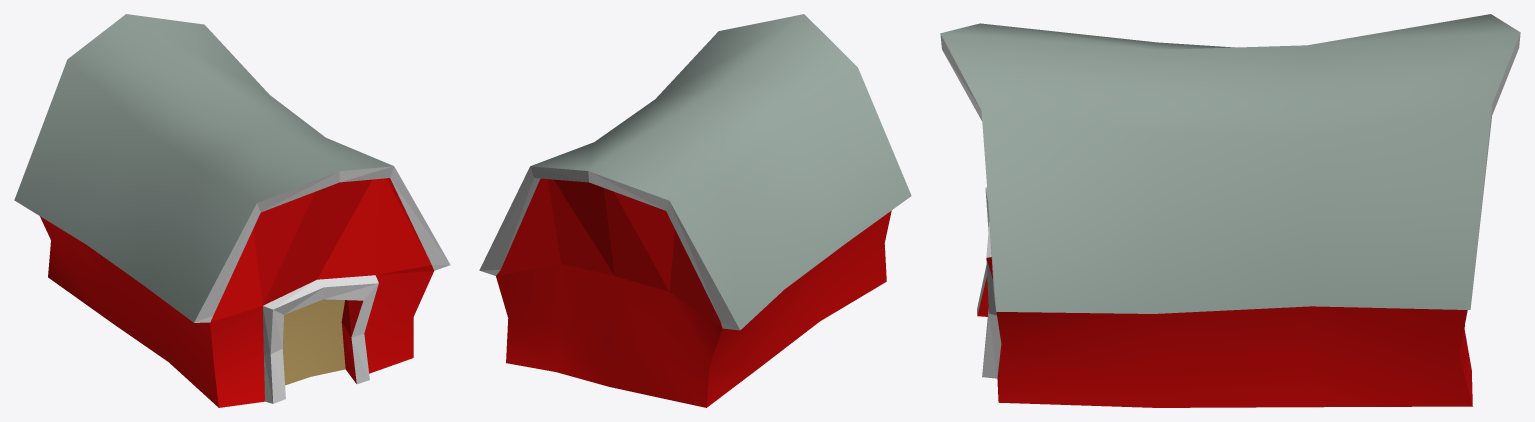
The model's file is Barn.fbx.
3 renders of one model, left to right at view 1: azimuth 30°, elevation 25°; view 2: azimuth 150°, elevation 25°; view 3: azimuth 270°, elevation 25°, orthographic. The views are drawn at different scales.
Visible parts, largest first — view 1: Barn; view 2: Barn; view 3: Barn.
Part boxes in pixels (x1,y1,x2,y2): Barn: (14, 14, 450, 407); Barn: (479, 14, 911, 407); Barn: (940, 14, 1520, 407).
Size of the model in its own units: 19.37 by 16.45 by 27.31.
